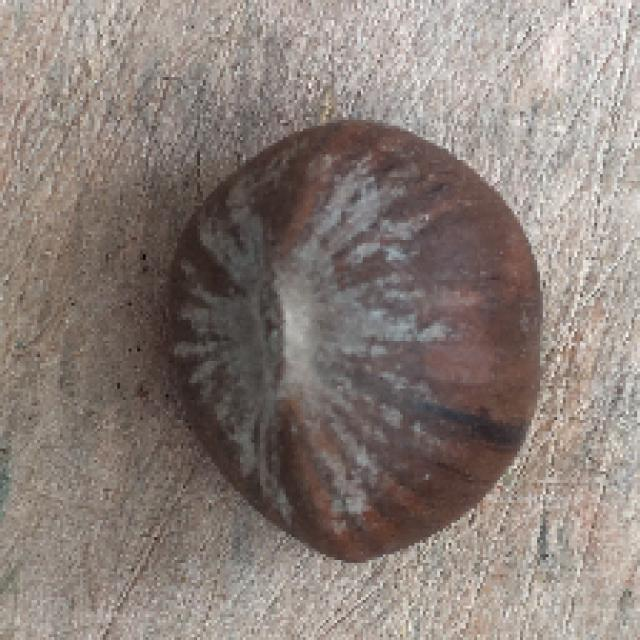damagedHazelnut: (167, 110, 544, 566)
